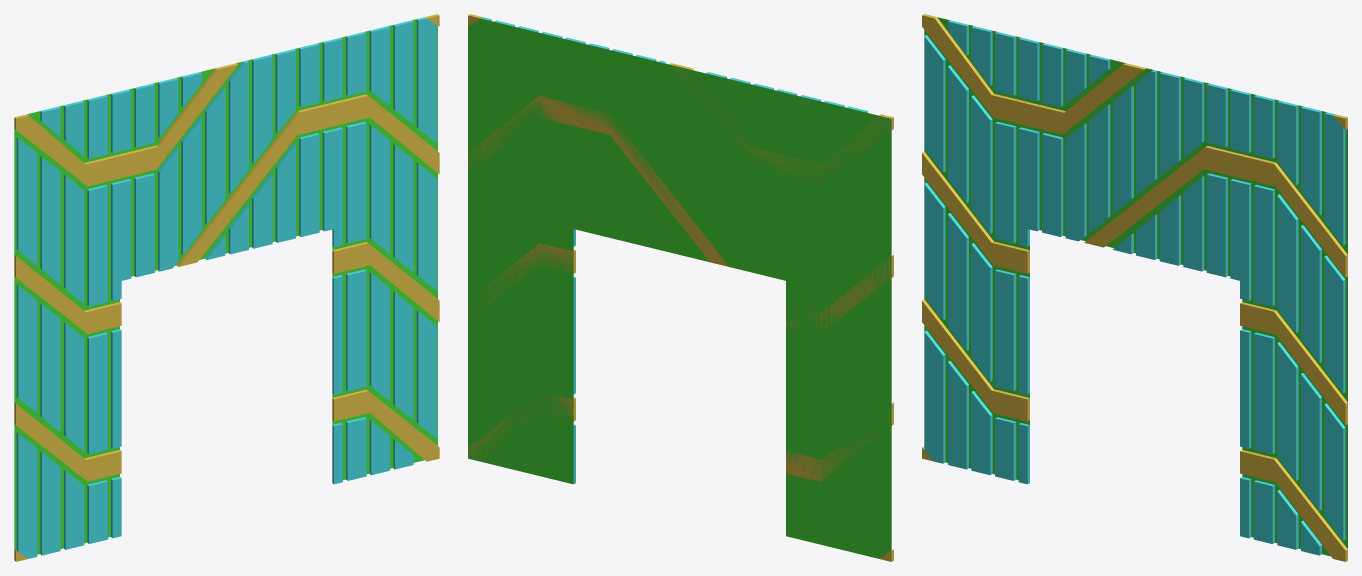
Rendered from Wall_47_Door.fbx.
3 renders of one model, left to right at view 1: azimuth 30°, elevation 25°; view 2: azimuth 150°, elevation 25°; view 3: azimuth 330°, elevation 25°, orthographic.
Parts seen in each view (by area): view 1: Wall_47_Door; view 2: Wall_47_Door; view 3: Wall_47_Door.
Part boxes in pixels (x1,y1,x2,y2): Wall_47_Door: [14, 14, 439, 561]; Wall_47_Door: [468, 14, 893, 561]; Wall_47_Door: [922, 14, 1347, 561].
Size of the model in its own units: 458 by 457 by 3.81.
